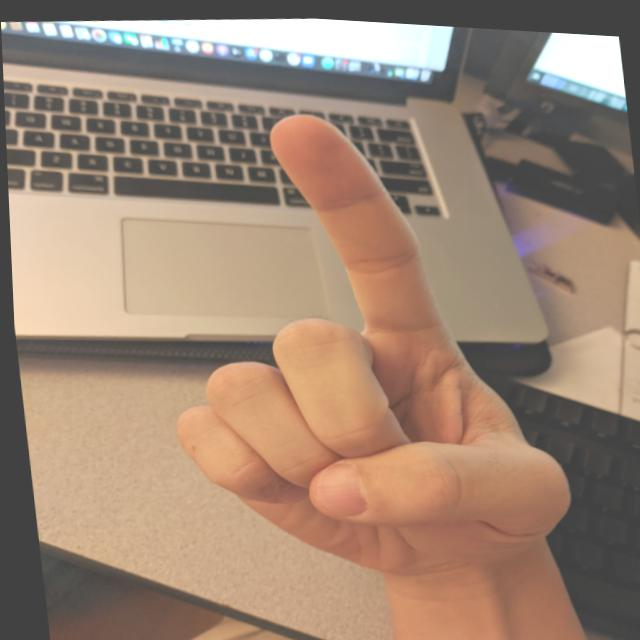D: (129, 79, 591, 604)
